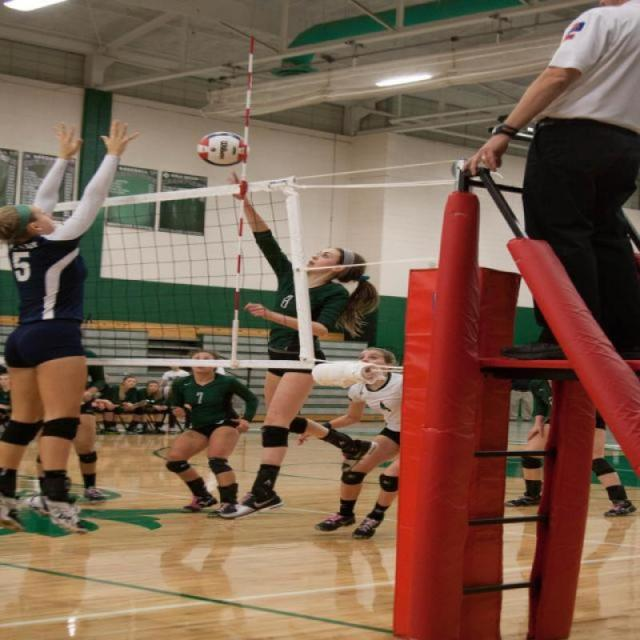volleyball: (195, 130, 250, 166)
